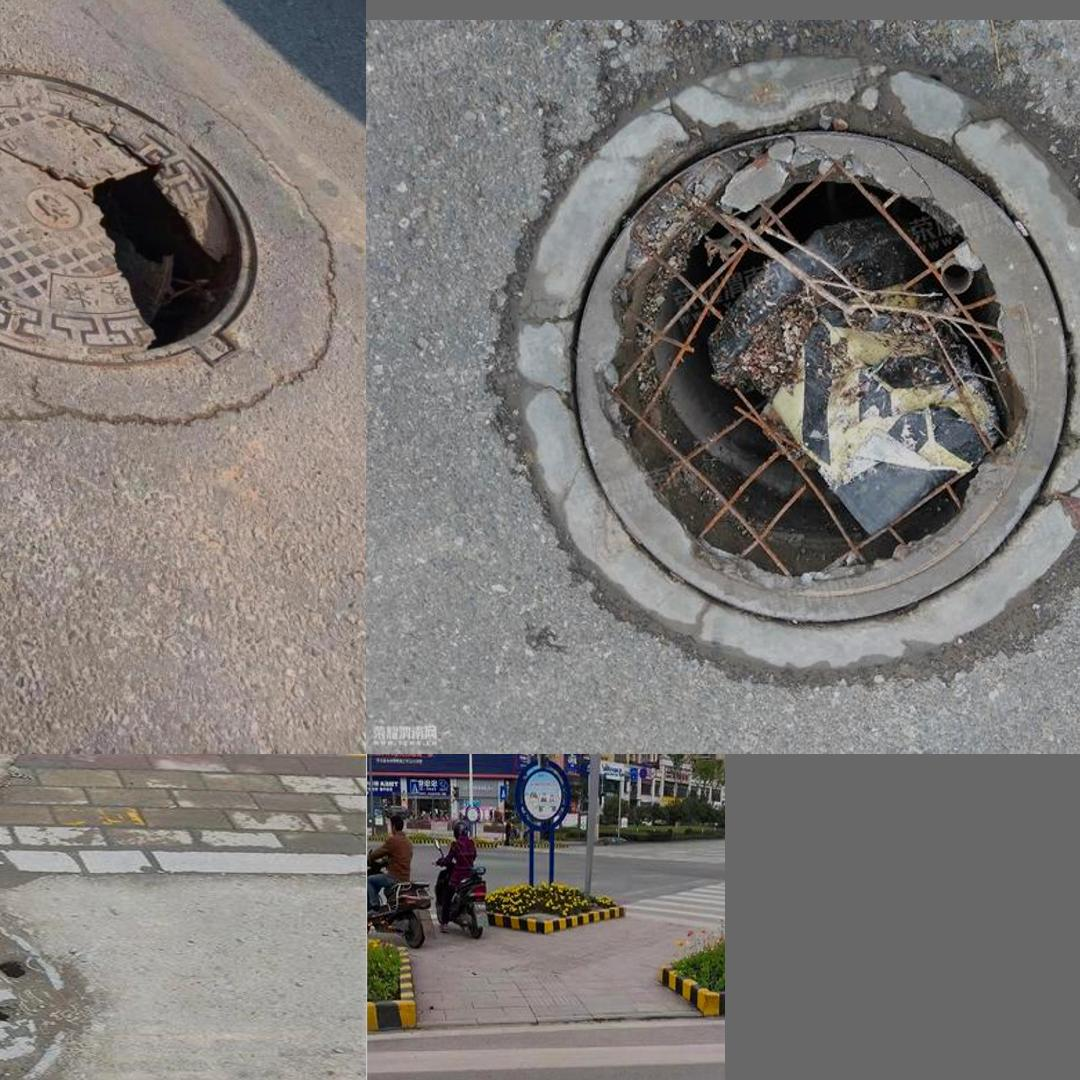broke: (482, 47, 1080, 687), (0, 46, 331, 451), (0, 877, 108, 1080)
